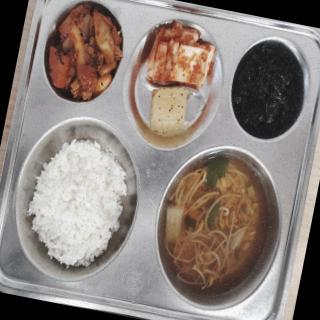Nasi: (20, 131, 137, 278)
